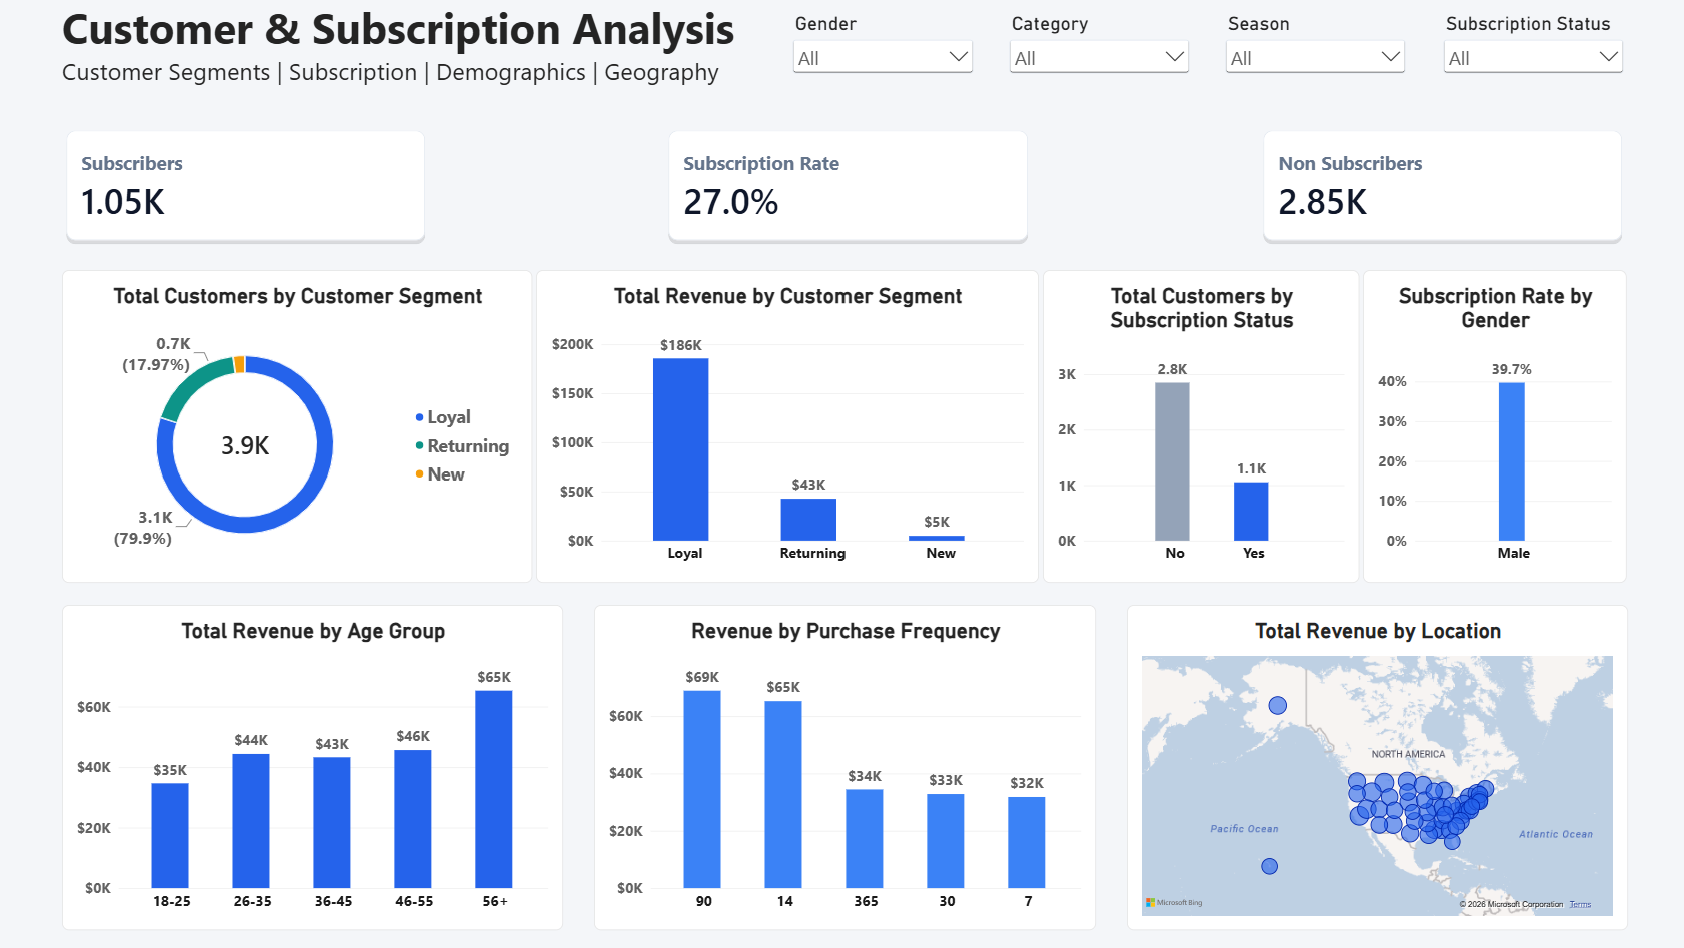

The page's visual inventory and layout, read from the dashboard file:
{"tool":"powerbi","page":{"name":"Customer & Subscription Analysis","canvas":[1920,1080],"ordinal":1},"visuals":[{"type":"donutChart","fields":{"Category":["CustomerShopping.Customer Segment"],"Y":["CustomerShopping.Total Customers"]},"box":[70,309.4,535,355],"z":0},{"type":"clusteredColumnChart","fields":{"Category":["CustomerShopping.Customer Segment"],"Y":["CustomerShopping.Total Revenue"]},"box":[609.7,309.4,571,355],"z":1000},{"type":"clusteredColumnChart","title":"Total Customers by Subscription Status","fields":{"Category":["CustomerShopping.subscription_status"],"Y":["CustomerShopping.Total Customers"]},"box":[1185.3,309.4,360,355],"z":2000},{"type":"clusteredColumnChart","title":"Subscription Rate by Gender","fields":{"Category":["CustomerShopping.gender"],"Y":["CustomerShopping.Subscription Rate"]},"box":[1550,309.4,300,355],"z":3000},{"type":"clusteredColumnChart","title":"Total Revenue by Age Group","fields":{"Category":["CustomerShopping.age_group"],"Y":["CustomerShopping.Total Revenue"]},"box":[70,689.3,570,370],"z":4000},{"type":"clusteredColumnChart","title":"Revenue by Purchase Frequency","fields":{"Category":["CustomerShopping.purchase_frequency_days"],"Y":["CustomerShopping.Total Revenue"]},"box":[675,689.3,570,370],"z":5000},{"type":"map","title":"Total Revenue by Location","fields":{"Category":["CustomerShopping.location"],"Size":["CustomerShopping.Total Revenue"]},"box":[1280,689.3,570,370],"z":6000},{"type":"slicer","fields":{"Values":["CustomerShopping.subscription_status"]},"box":[1635,15,215,106.9],"z":7000},{"type":"textbox","box":[70.5,0,793.9,118.3],"z":8000},{"type":"slicer","fields":{"Values":["CustomerShopping.gender"]},"box":[896.3,15,215,106.9],"z":9000},{"type":"slicer","fields":{"Values":["CustomerShopping.category"]},"box":[1142.5,15,215,106],"z":10000},{"type":"slicer","fields":{"Values":["CustomerShopping.season"]},"box":[1388.8,15,215,106],"z":11000},{"type":"cardVisual","fields":{"Data":["CustomerShopping.Subscription Rate"]},"box":[755.3,145.6,418.6,135],"z":12000},{"type":"cardVisual","fields":{"Data":["CustomerShopping.Subscribers"]},"box":[70.5,145.6,418.6,135],"z":13000},{"type":"cardVisual","fields":{"Data":["CustomerShopping.Non Subscribers"]},"box":[1430.9,145.6,418.6,135],"z":14000}]}

Visuals, with their boxes in screenshot pixels (x1, y1, x2, y2), scaled from the page's 1920x1080 canvas onto the 1684x948 screenshot:
donutChart - CustomerShopping.Customer Segment x CustomerShopping.Total Customers: (left=61, top=272, right=531, bottom=583)
clusteredColumnChart - CustomerShopping.Customer Segment x CustomerShopping.Total Revenue: (left=535, top=272, right=1036, bottom=583)
"Total Customers by Subscription Status" clusteredColumnChart: (left=1040, top=272, right=1355, bottom=583)
"Subscription Rate by Gender" clusteredColumnChart: (left=1359, top=272, right=1623, bottom=583)
"Total Revenue by Age Group" clusteredColumnChart: (left=61, top=605, right=561, bottom=930)
"Revenue by Purchase Frequency" clusteredColumnChart: (left=592, top=605, right=1092, bottom=930)
"Total Revenue by Location" map: (left=1123, top=605, right=1623, bottom=930)
slicer - CustomerShopping.subscription_status: (left=1434, top=13, right=1623, bottom=107)
textbox: (left=62, top=0, right=758, bottom=104)
slicer - CustomerShopping.gender: (left=786, top=13, right=975, bottom=107)
slicer - CustomerShopping.category: (left=1002, top=13, right=1191, bottom=106)
slicer - CustomerShopping.season: (left=1218, top=13, right=1407, bottom=106)
cardVisual - CustomerShopping.Subscription Rate: (left=662, top=128, right=1030, bottom=246)
cardVisual - CustomerShopping.Subscribers: (left=62, top=128, right=429, bottom=246)
cardVisual - CustomerShopping.Non Subscribers: (left=1255, top=128, right=1622, bottom=246)
